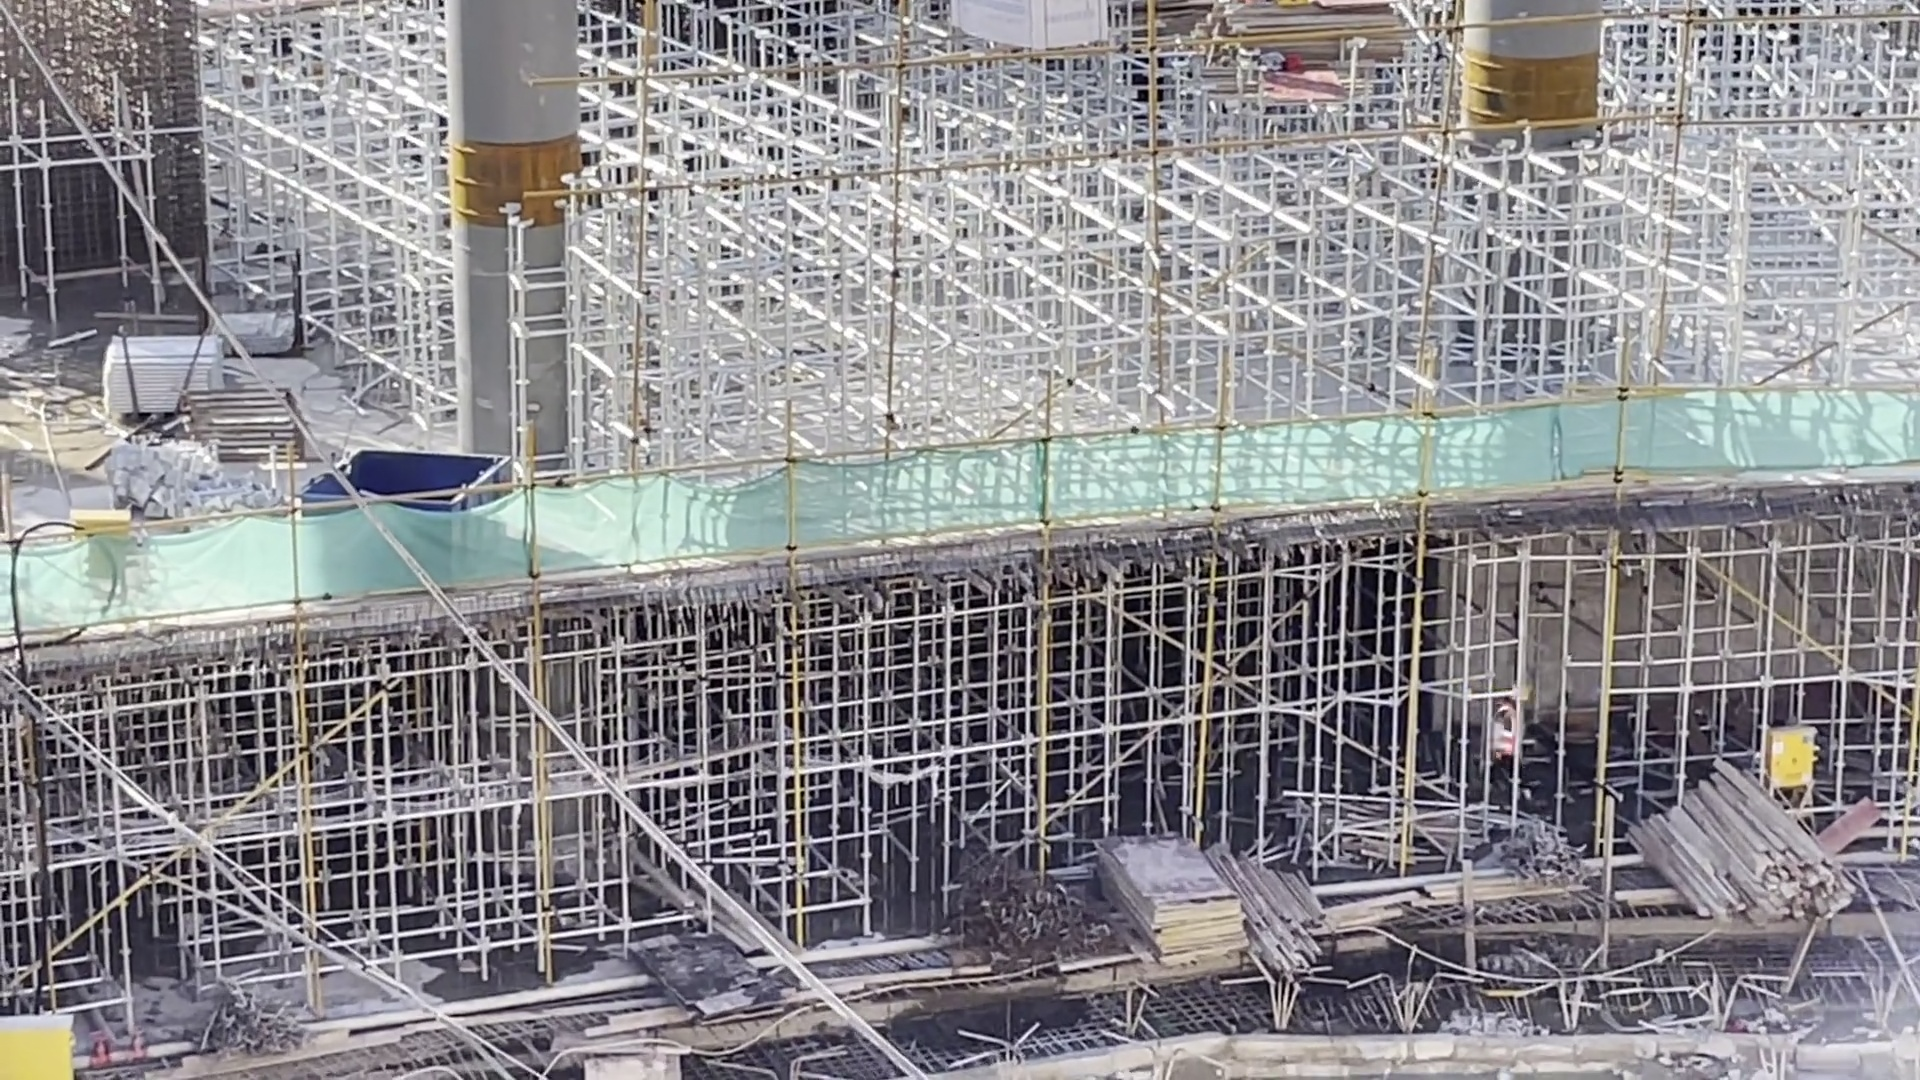board: (1087, 833, 1255, 969), (1199, 1, 1410, 67)
ebox: (1764, 720, 1815, 791), (67, 505, 138, 530)
hopper: (342, 439, 518, 491)
scaffold: (102, 338, 225, 398)
wood: (1636, 756, 1866, 924), (1255, 862, 1329, 989)
